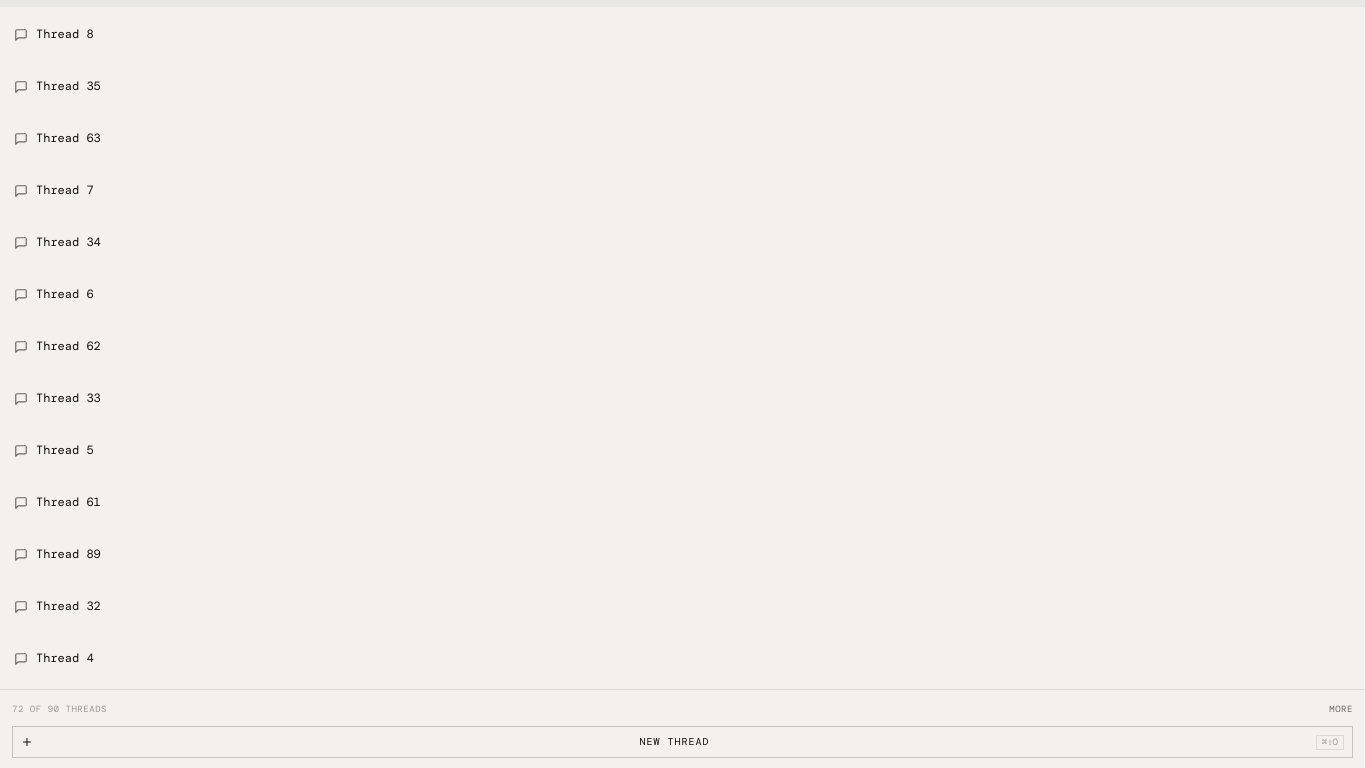
Test: AgentSessionRail › caps large session lists and expands on demand
(page scrolled)
What coordinates should you click on to do the following:
click the button "More"
I would click on:
 (1341, 709)
Its box is [1329, 704, 1353, 714].
(page scrolled)
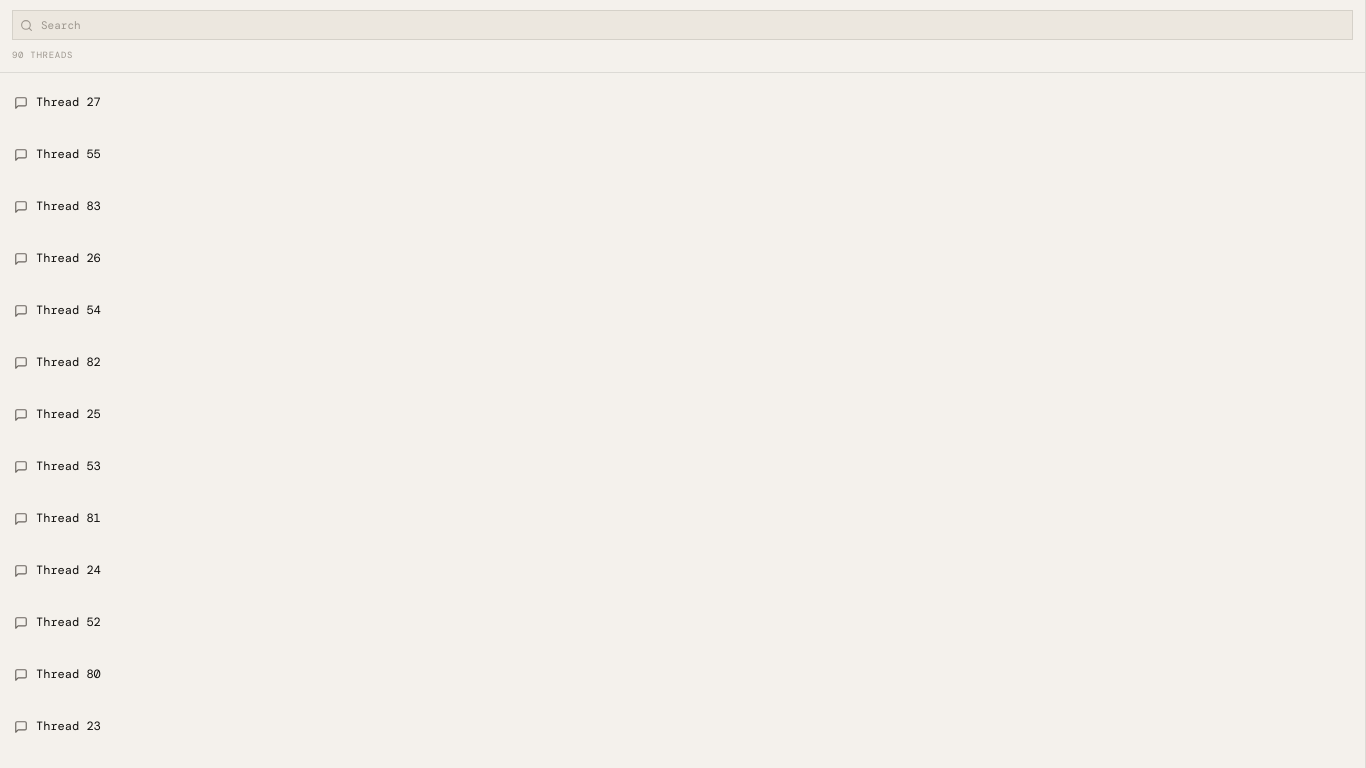
Expected: the text "90 threads" is shown, [12, 50, 73, 60]
Expected: the number of elements with class "zaki-thread-item" is 90
